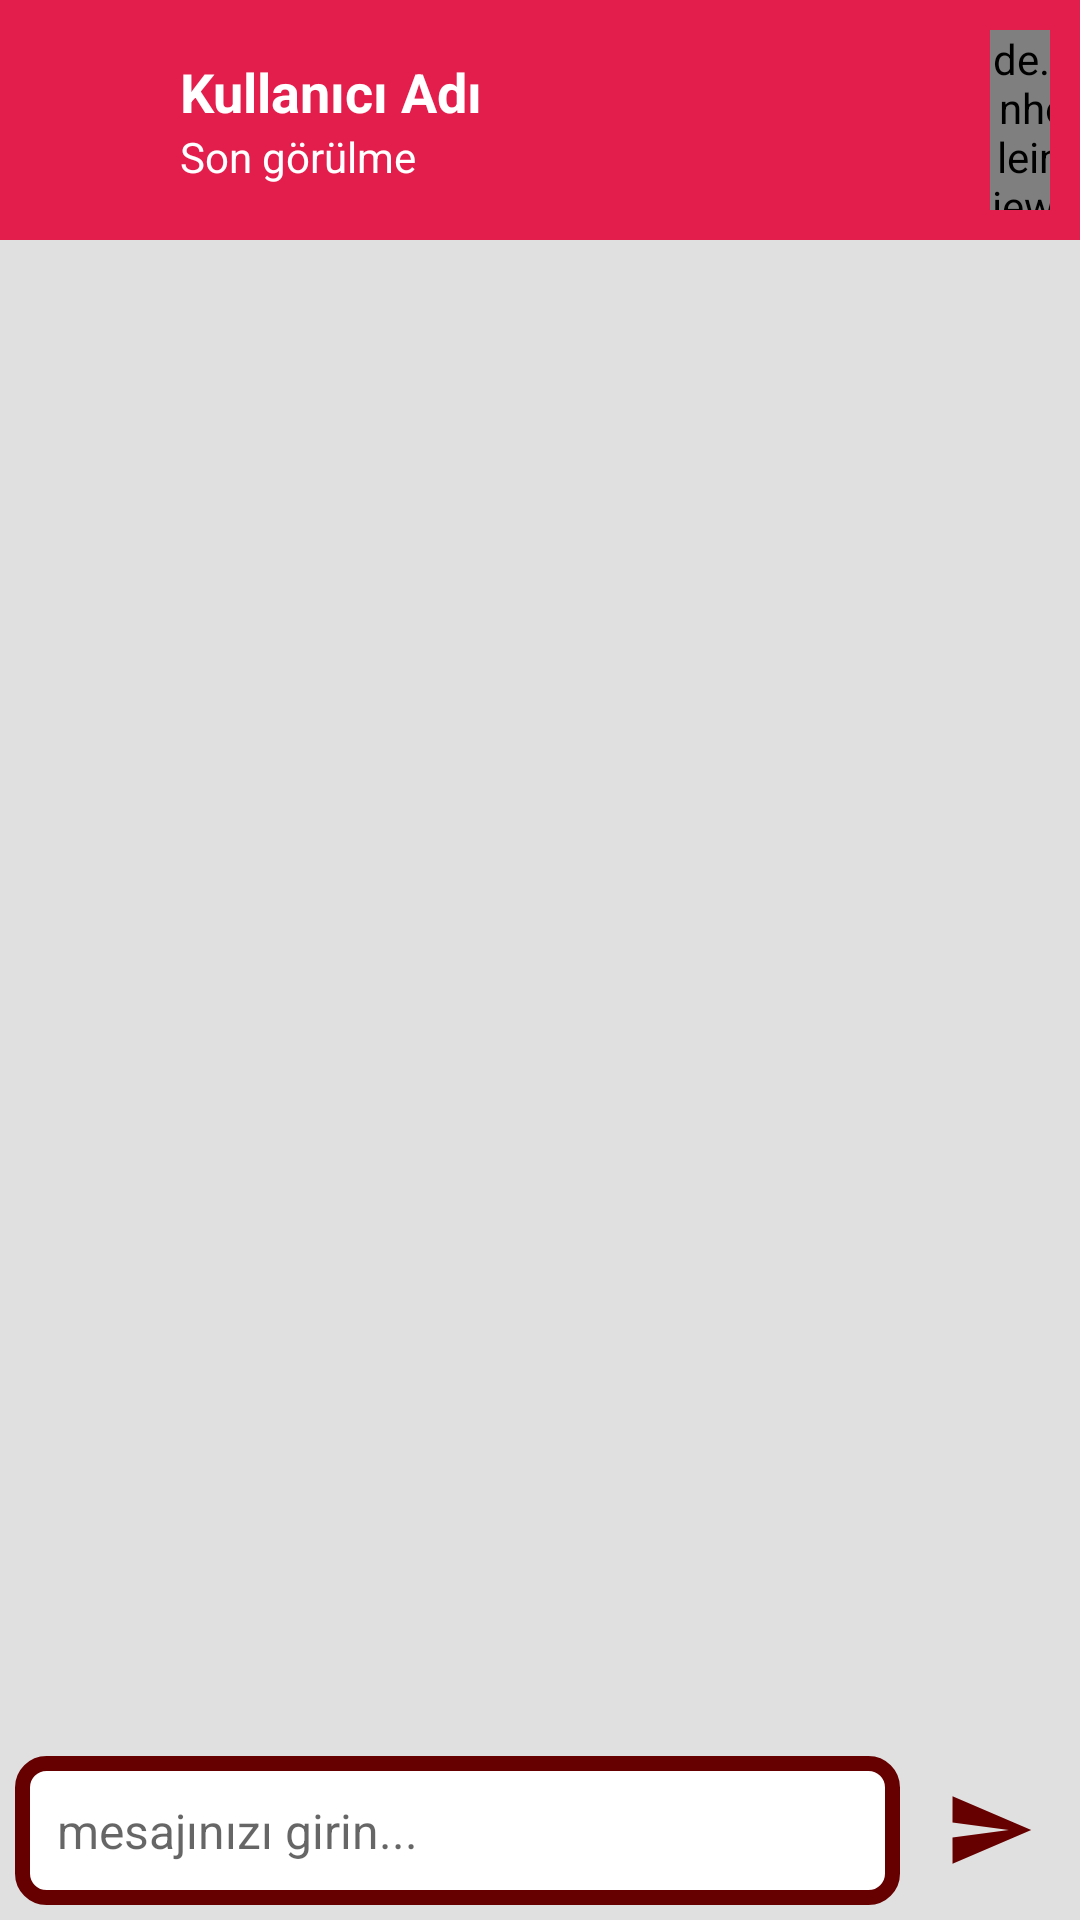

Screen size 1080*1920. Icon name, then its box in pixels as [left=x1, top=y1, right=x2, bottom=y2]:
send: [left=952, top=1796, right=1031, bottom=1864]
